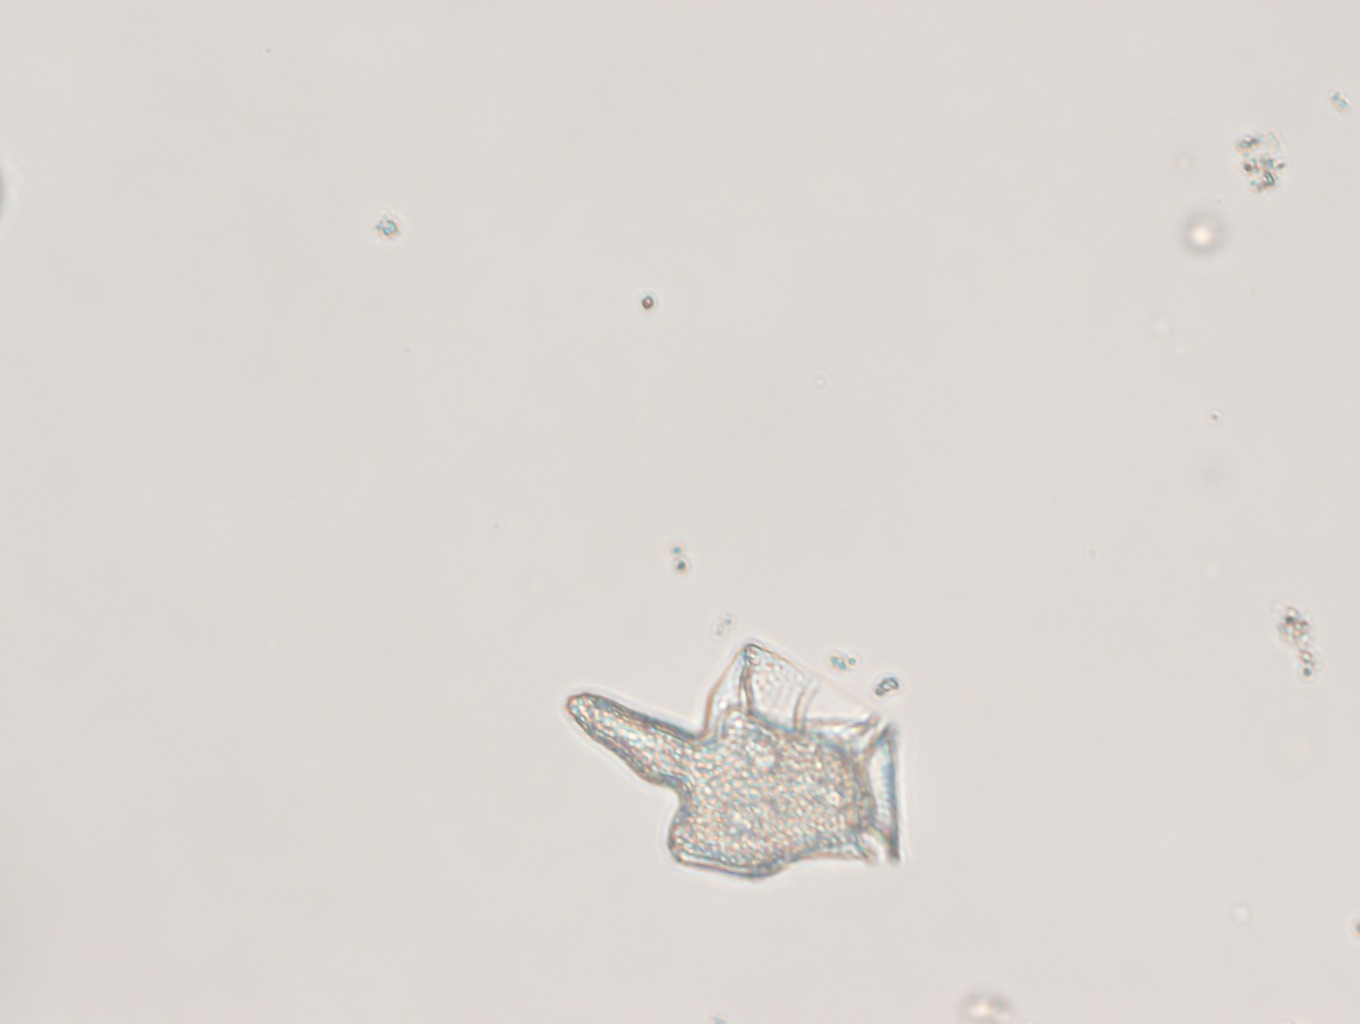dinophysis caudata: (566, 643, 898, 883)
